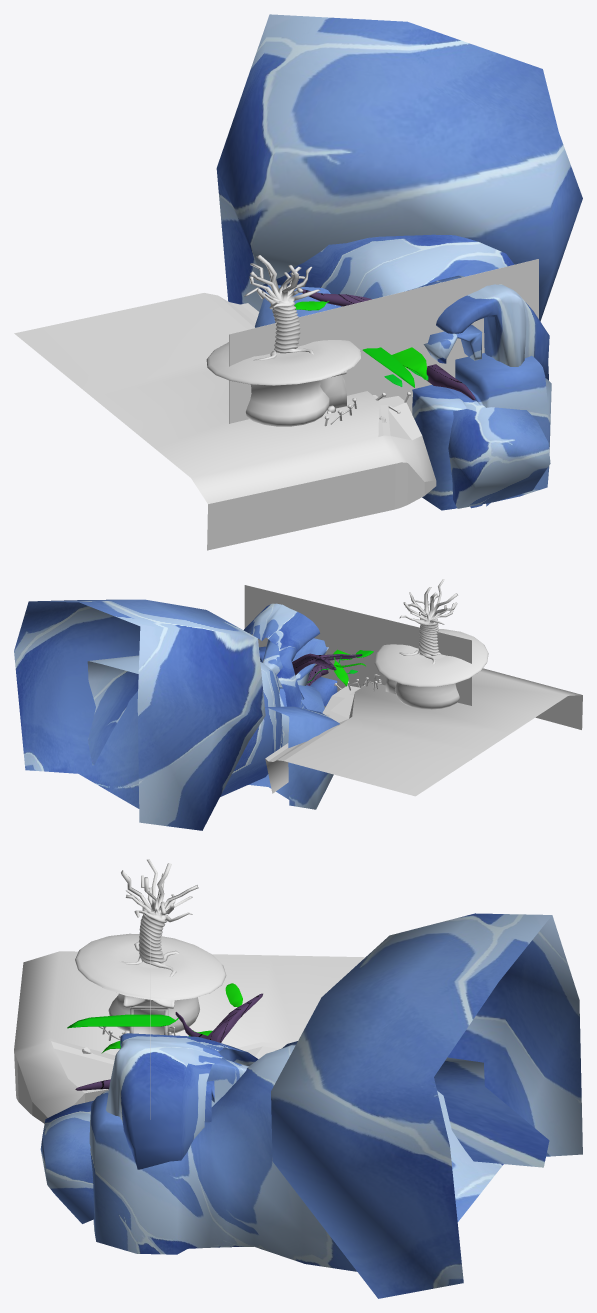
File: stage_01.fbx
3 views of the same model, one above another, from view 1: azimuth 30°, elevation 25°; view 2: azimuth 150°, elevation 25°; view 3: azimuth 270°, elevation 25° (orthographic). The views are drawn at different scales.
Visible parts, largest first — view 1: Cube.016, scene_midleft, Cube.004, Plane, Cube.005, Cube.006, Cube.012, Cube.015, Cube.011, Cube.008; view 2: Cube.016, scene_midleft, Plane, Cube.004, Cube.006, Cube.015, Cube.003, Cube.012, Cube.014; view 3: Cube.016, Cube.004, scene_midleft, Cube.006, Cube.005, Cube.008, Cube.014.
Boxes of the visible parts, x1=… form: Cube.016: x1=216, y1=14, x2=582, y2=321; scene_midleft: x1=14, y1=255, x2=436, y2=550; Cube.004: x1=259, y1=234, x2=551, y2=510; Plane: x1=229, y1=259, x2=538, y2=423; Cube.005: x1=448, y1=401, x2=550, y2=508; Cube.006: x1=407, y1=275, x2=549, y2=380; Cube.012: x1=423, y1=325, x2=482, y2=363; Cube.015: x1=255, y1=285, x2=340, y2=327; Cube.011: x1=426, y1=364, x2=475, y2=400; Cube.008: x1=362, y1=347, x2=414, y2=387; Cube.016: x1=14, y1=599, x2=265, y2=830; scene_midleft: x1=265, y1=579, x2=582, y2=796; Plane: x1=244, y1=585, x2=471, y2=708; Cube.004: x1=87, y1=655, x2=337, y2=796; Cube.006: x1=244, y1=603, x2=319, y2=709; Cube.015: x1=248, y1=706, x2=339, y2=809; Cube.003: x1=279, y1=685, x2=324, y2=746; Cube.012: x1=259, y1=638, x2=328, y2=685; Cube.014: x1=292, y1=653, x2=362, y2=675; Cube.016: x1=271, y1=913, x2=582, y2=1298; Cube.004: x1=89, y1=1044, x2=549, y2=1271; scene_midleft: x1=14, y1=859, x2=364, y2=1123; Cube.006: x1=106, y1=1033, x2=258, y2=1169; Cube.005: x1=40, y1=1100, x2=94, y2=1223; Cube.008: x1=67, y1=1014, x2=178, y2=1028; Cube.014: x1=175, y1=993, x2=262, y2=1042.
Size of the model in its own units: 3492 by 1954 by 3164.
